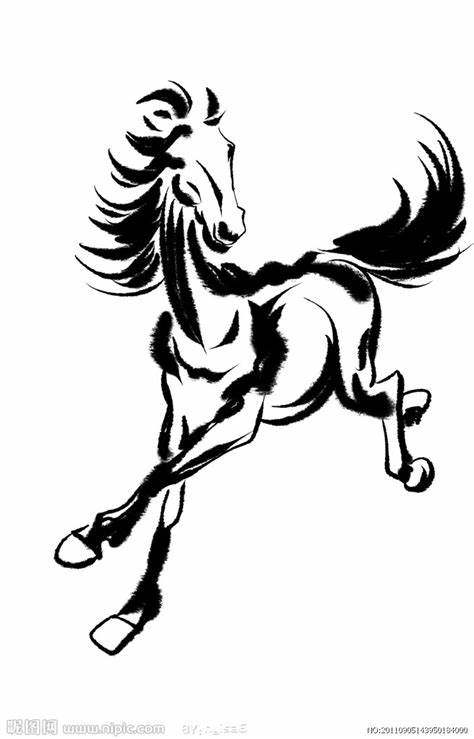background: (59, 79, 467, 682)
